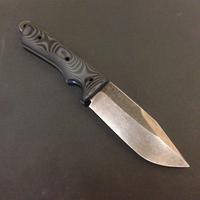knife: (16, 11, 191, 169)
